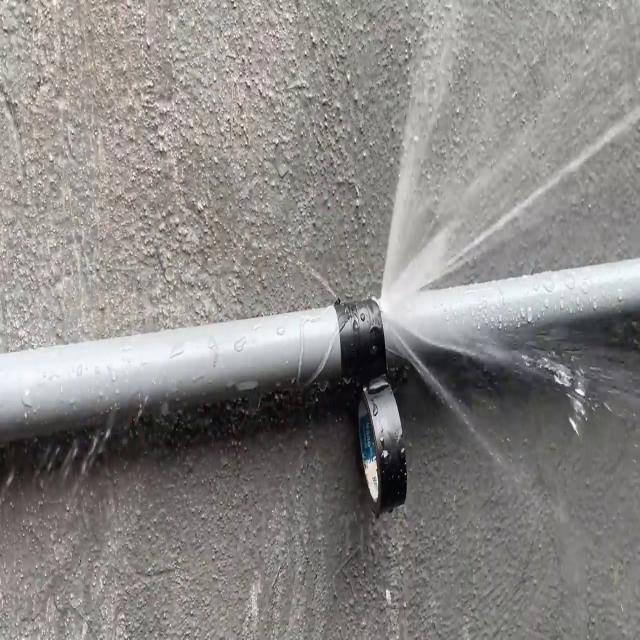leak: (381, 3, 640, 615)
